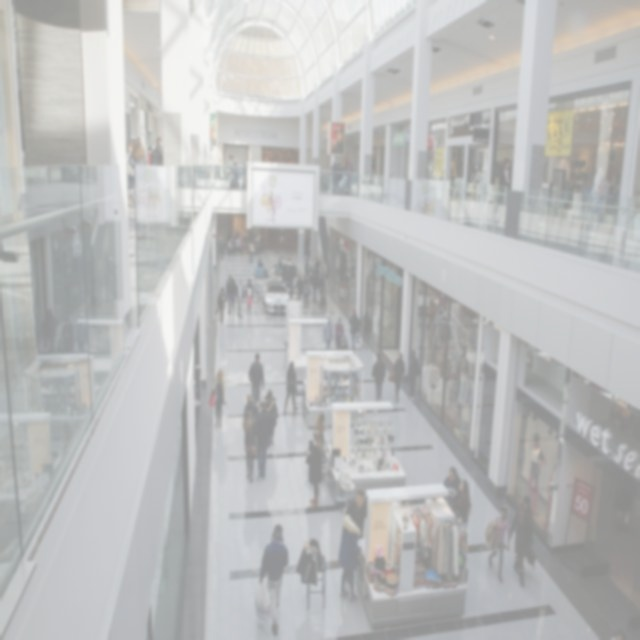pessoa: (524, 422, 558, 539), (556, 162, 622, 220), (258, 522, 290, 636), (336, 502, 362, 606), (509, 494, 537, 588), (482, 501, 512, 585), (424, 289, 447, 392), (84, 252, 118, 308), (454, 340, 475, 430), (253, 401, 276, 482), (303, 428, 325, 510), (442, 465, 472, 521), (242, 407, 258, 484), (208, 368, 228, 429), (301, 252, 326, 300), (456, 478, 472, 552), (387, 350, 407, 402), (282, 358, 298, 419), (263, 388, 279, 448), (248, 352, 264, 406), (406, 348, 421, 404), (73, 310, 89, 360), (470, 158, 488, 200), (354, 490, 368, 540), (372, 351, 386, 401), (128, 135, 148, 168), (44, 308, 58, 355), (272, 252, 296, 279), (60, 316, 76, 355), (347, 306, 360, 353), (225, 272, 238, 316), (314, 411, 329, 449), (214, 286, 228, 326), (359, 308, 372, 350), (330, 123, 346, 155), (498, 157, 513, 190), (144, 143, 154, 190), (322, 312, 334, 351), (149, 135, 164, 166), (234, 276, 244, 320), (244, 276, 255, 316), (243, 390, 258, 418), (126, 140, 134, 190), (425, 161, 444, 181), (344, 160, 354, 196), (334, 316, 344, 351), (301, 276, 311, 310), (448, 158, 458, 192), (292, 274, 304, 301), (332, 162, 342, 194), (331, 157, 338, 197), (256, 254, 268, 276), (318, 273, 326, 305), (312, 270, 319, 303), (370, 158, 378, 184), (217, 233, 224, 261), (233, 232, 241, 256), (248, 239, 255, 264), (340, 154, 349, 173), (230, 228, 240, 244), (228, 236, 235, 256), (241, 216, 246, 236)
